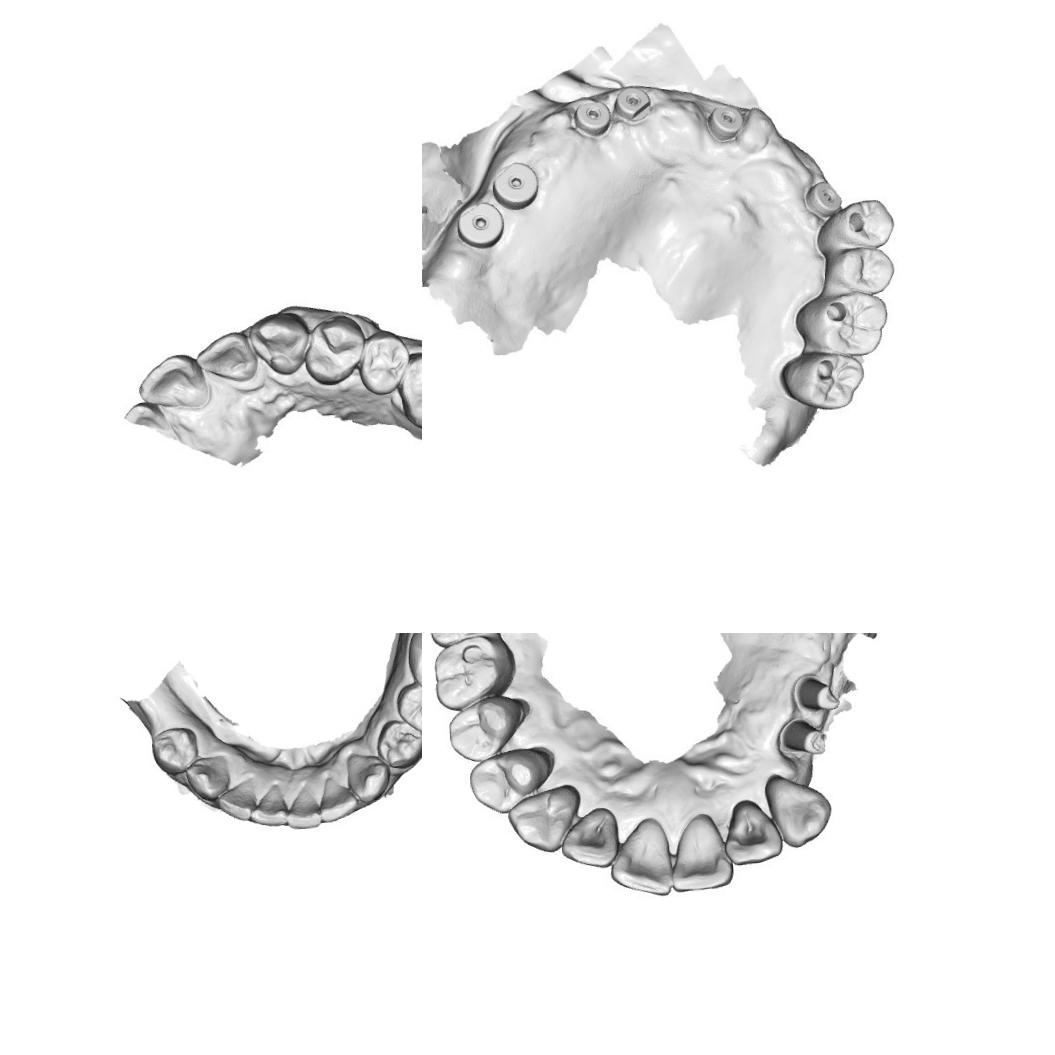abutment: (791, 668, 844, 714), (774, 714, 828, 759)
canine: (502, 782, 584, 856), (765, 770, 834, 850), (249, 310, 311, 382), (344, 752, 392, 804), (182, 754, 231, 802)
implant: (454, 199, 506, 251), (489, 161, 540, 210), (568, 96, 612, 141), (610, 81, 654, 124), (804, 174, 840, 218), (705, 103, 745, 142)
incisor: (666, 808, 736, 894), (606, 813, 673, 900), (720, 796, 785, 868), (134, 350, 208, 410), (559, 810, 617, 870), (195, 328, 253, 383), (316, 775, 359, 823), (215, 776, 257, 822), (248, 782, 287, 828), (284, 785, 322, 830)
molar: (428, 634, 516, 711), (783, 350, 865, 414), (801, 294, 887, 350), (394, 351, 422, 431)
premolar: (467, 744, 548, 815), (445, 693, 524, 762), (300, 316, 364, 386), (356, 328, 411, 396), (824, 247, 898, 293), (829, 198, 892, 250), (149, 725, 199, 776), (374, 717, 422, 769), (394, 680, 422, 735)
